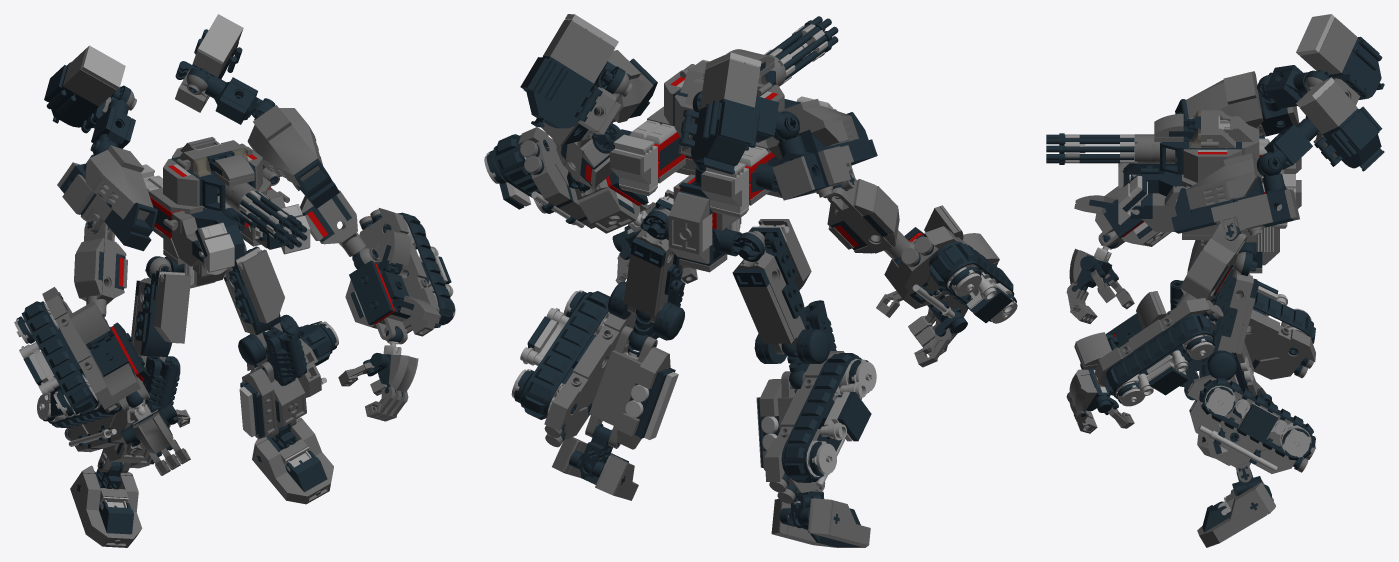
Rendered from th-nx-02-siegemaster-battle-frame.dae.
3 views of the same model, side by side, from view 1: azimuth 30°, elevation 25°; view 2: azimuth 150°, elevation 25°; view 3: azimuth 270°, elevation 25° (orthographic). The views are drawn at different scales.
Bounding box in the file's own units: 666 × 464 × 685.
